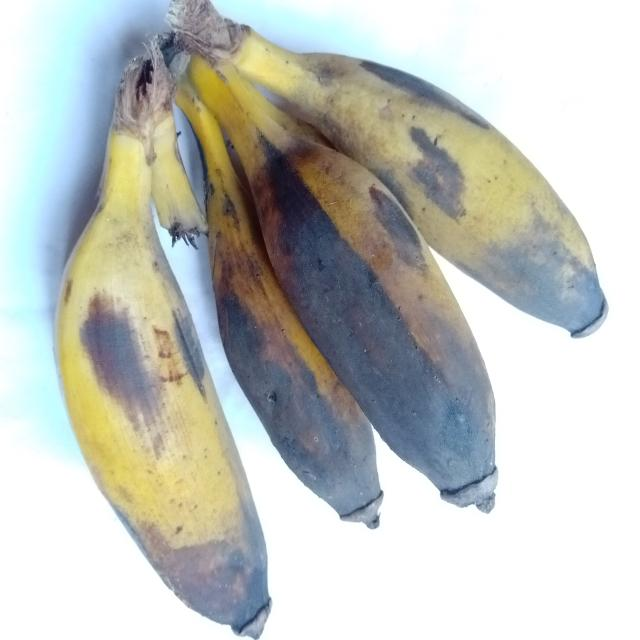banana: (168, 0, 607, 337), (187, 56, 497, 511), (56, 60, 270, 637), (177, 82, 382, 528), (151, 39, 207, 247)
